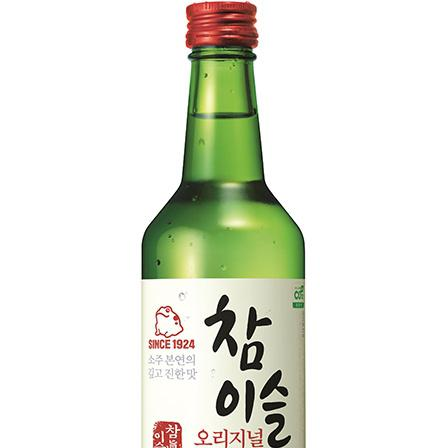soju: (137, 1, 311, 447)
